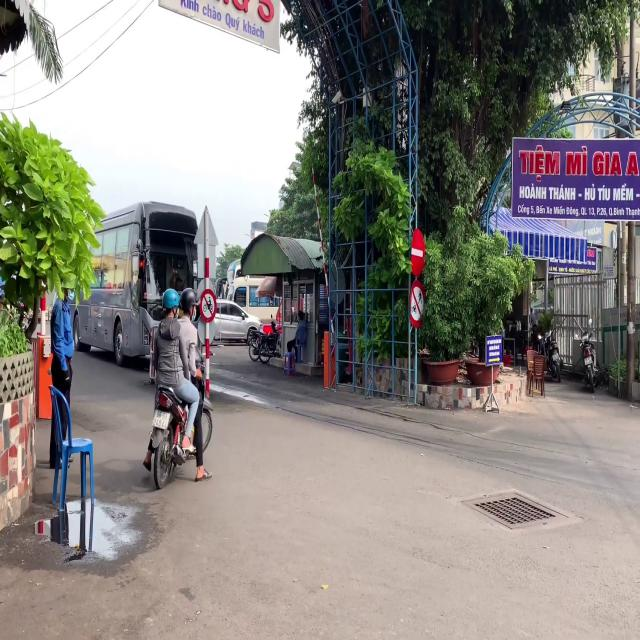bien_trang: (152, 407, 171, 431)
